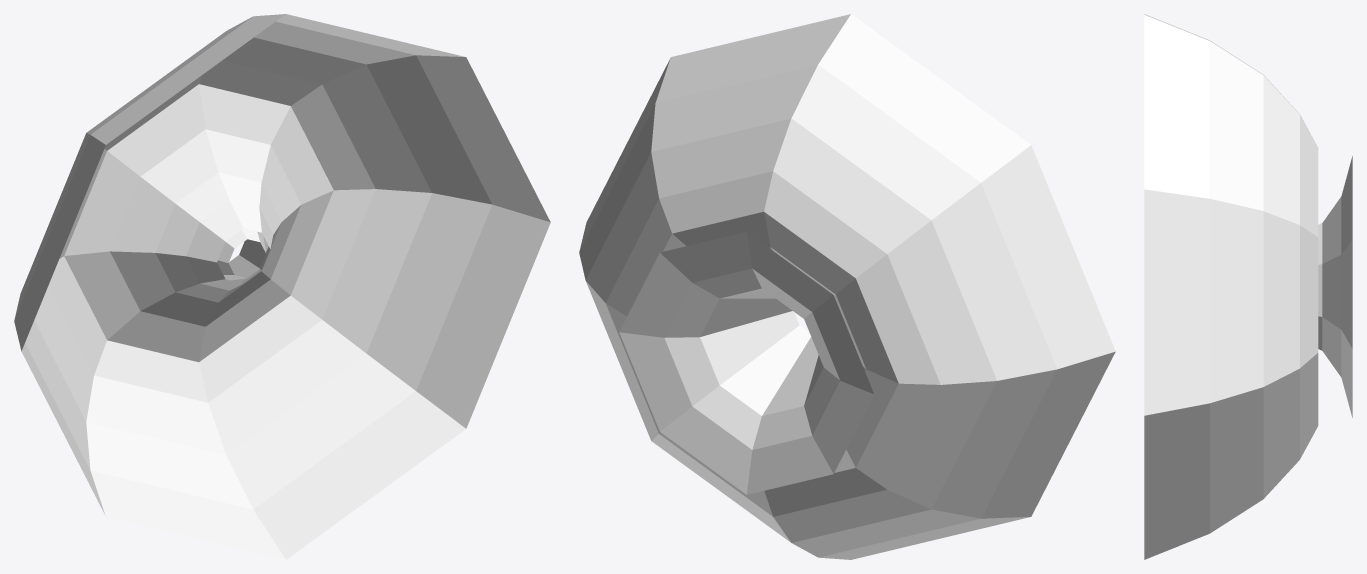
File: polygon0.188.obj
The picture shows the model from 3 angles, left to right: view 1: azimuth 30°, elevation 25°; view 2: azimuth 150°, elevation 25°; view 3: azimuth 270°, elevation 25°; orthographic projection.
Visible parts, largest first — view 1: Fountain; view 2: Fountain; view 3: Fountain.
Part boxes in pixels (left/top/right/bottom): Fountain: left=14, top=14, right=550, bottom=559; Fountain: left=579, top=14, right=1115, bottom=559; Fountain: left=1144, top=14, right=1352, bottom=559.
Bounding box in the file's own units: 193 × 190 × 65.89.
1 material, 1 textured.
